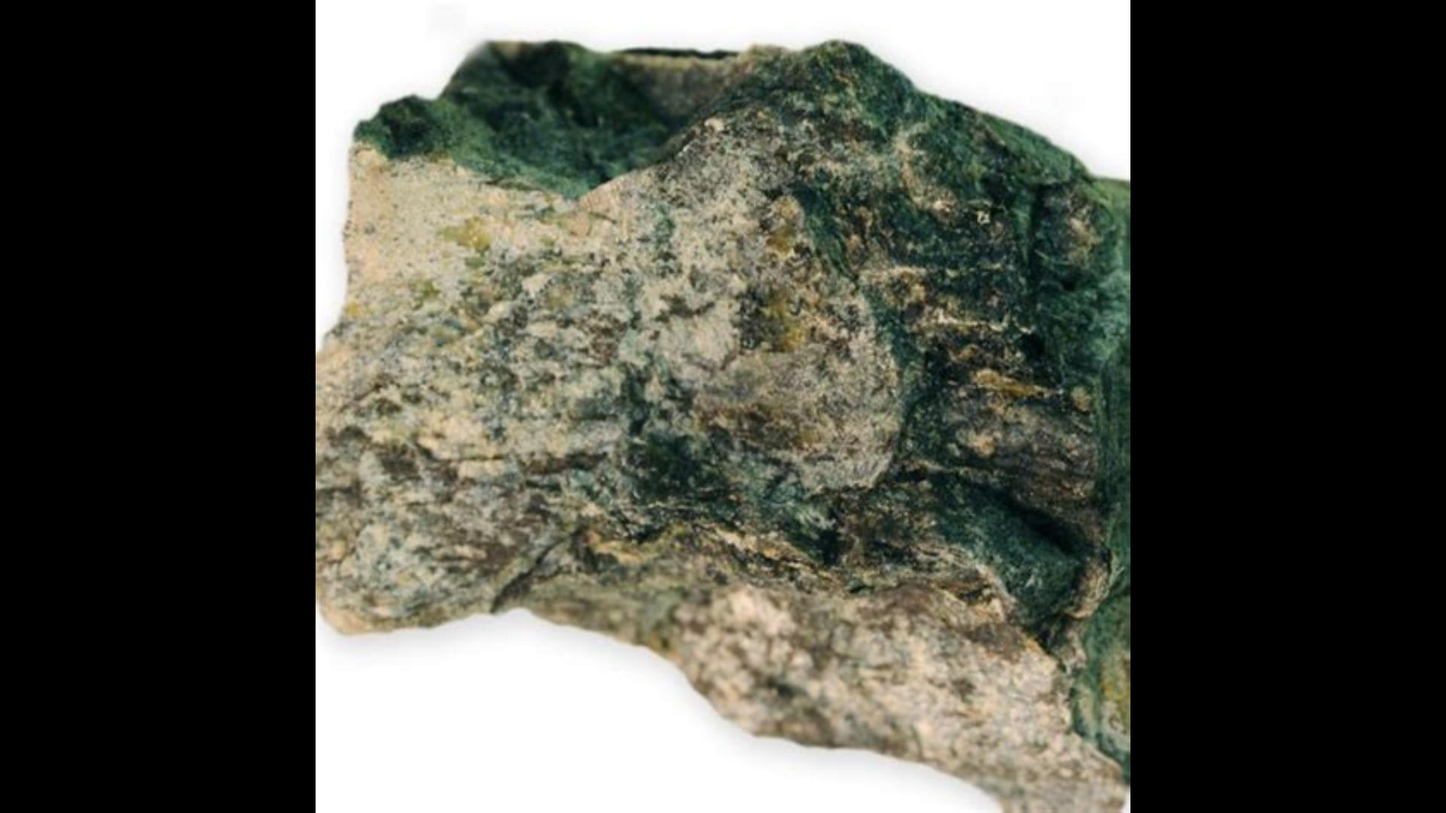rock: (316, 43, 1129, 808)
